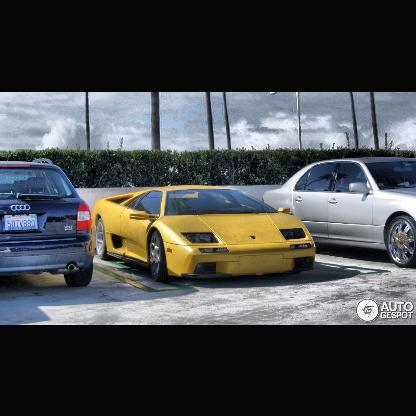Lamborghini Diablo Coupe 2001: (85, 175, 318, 283)
